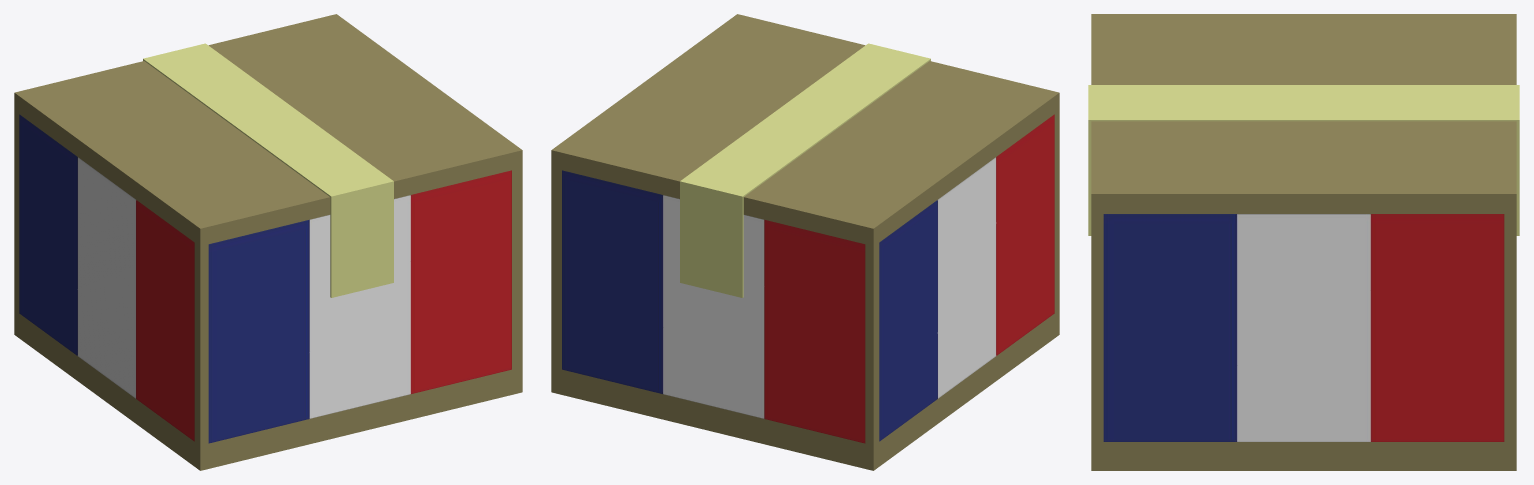
The model's file is french box normal.fbx.
3 renders of one model, left to right at view 1: azimuth 30°, elevation 25°; view 2: azimuth 150°, elevation 25°; view 3: azimuth 270°, elevation 25°, orthographic. The views are drawn at different scales.
Visible parts, largest first — view 1: Cube, ff.002, ff.001, Cube.001; view 2: Cube, ff.003, ff.001, Cube.001; view 3: ff, Cube, Cube.001.
Part boxes in pixels (box(x1,y1,x2,y2)): Cube: box(14, 14, 522, 470); ff.002: box(208, 170, 511, 443); ff.001: box(19, 114, 194, 441); Cube.001: box(143, 43, 393, 297); Cube: box(551, 14, 1059, 470); ff.003: box(562, 170, 865, 443); ff.001: box(879, 114, 1054, 441); Cube.001: box(680, 43, 930, 297); ff: box(1103, 214, 1504, 441); Cube: box(1091, 14, 1516, 470); Cube.001: box(1088, 85, 1519, 235).
Bounding box in the file's own units: 104 × 75.29 × 106.
